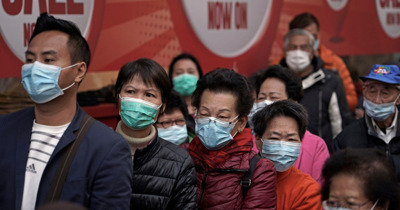mask_weared_incorrect: (364, 84, 399, 121)
with_mask: (21, 48, 77, 104), (118, 84, 163, 131), (195, 103, 240, 150), (260, 129, 302, 173), (157, 113, 189, 146), (172, 65, 202, 95), (283, 42, 314, 71)
